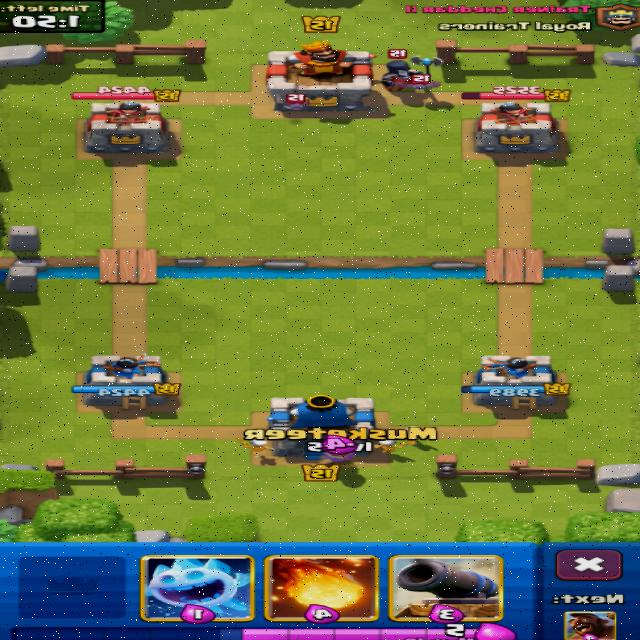Enemy-Bat: (413, 74, 441, 89), (288, 94, 307, 109)
Enemy-KingTower: (267, 39, 374, 110)
Enemy-NightWitch: (383, 56, 444, 90)
Enemy-PrincessTower: (86, 101, 173, 158), (477, 102, 557, 152)
Player-KingTower: (270, 395, 374, 429)
Player-PrincessTower: (83, 355, 182, 409), (475, 355, 570, 409)
Player-Skeleton: (237, 439, 273, 455), (375, 440, 415, 452)
